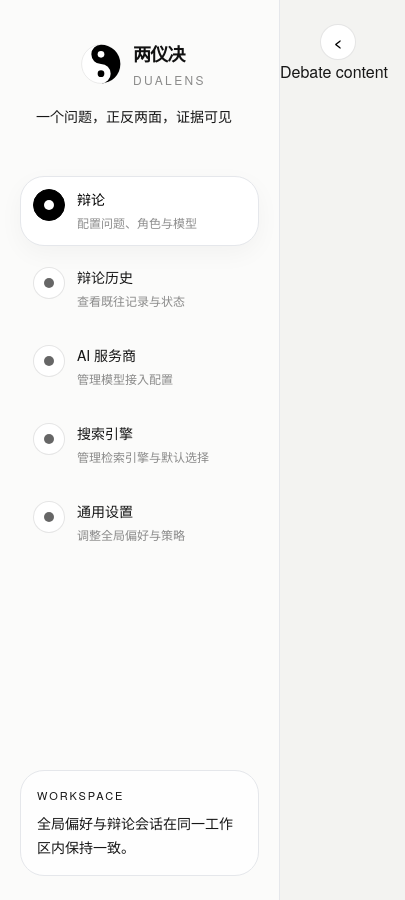
Test case: AppShell › collapses the workspace sidebar to icons and restores the expanded menu
The width and height of the screenshot is (405, 900).
Expected: the text "配置问题、角色与模型" is shown, [77, 213, 197, 233]
Click the button named "收起菜单".
click(338, 42)  # box [320, 24, 356, 60]
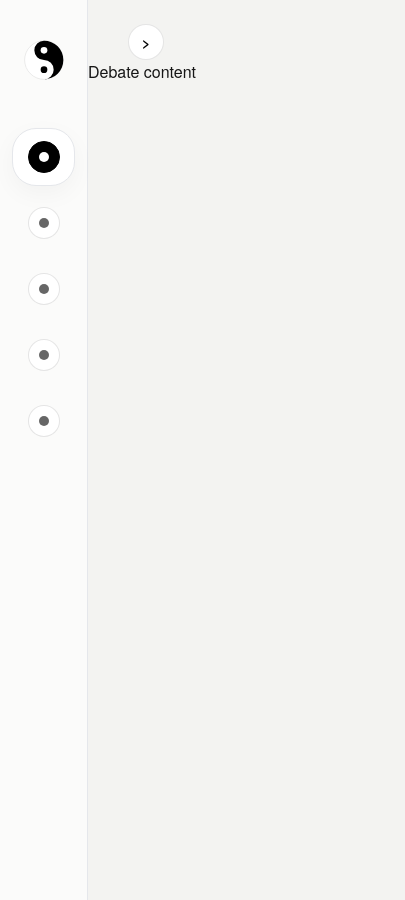
Now the button named "展开菜单" is shown
Now the text "配置问题、角色与模型" is gone
Click the button named "展开菜单".
click(146, 42)  # box [128, 24, 164, 60]
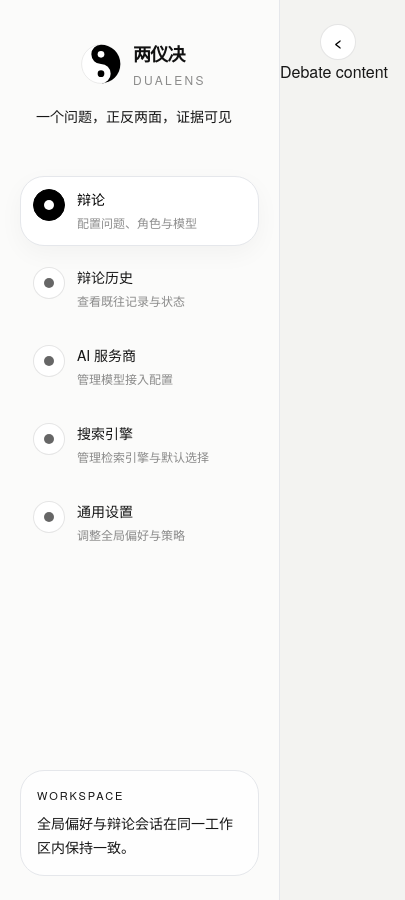
Now the text "配置问题、角色与模型" is shown, box [77, 213, 197, 233]
